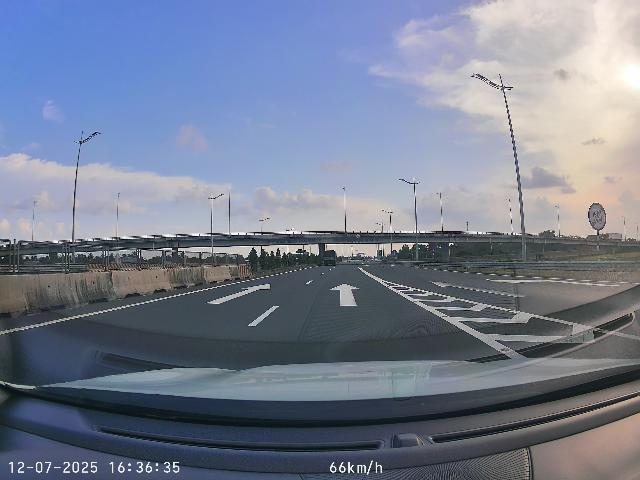134-het-han-che-toc-do-toi-da: (588, 202, 607, 231)
